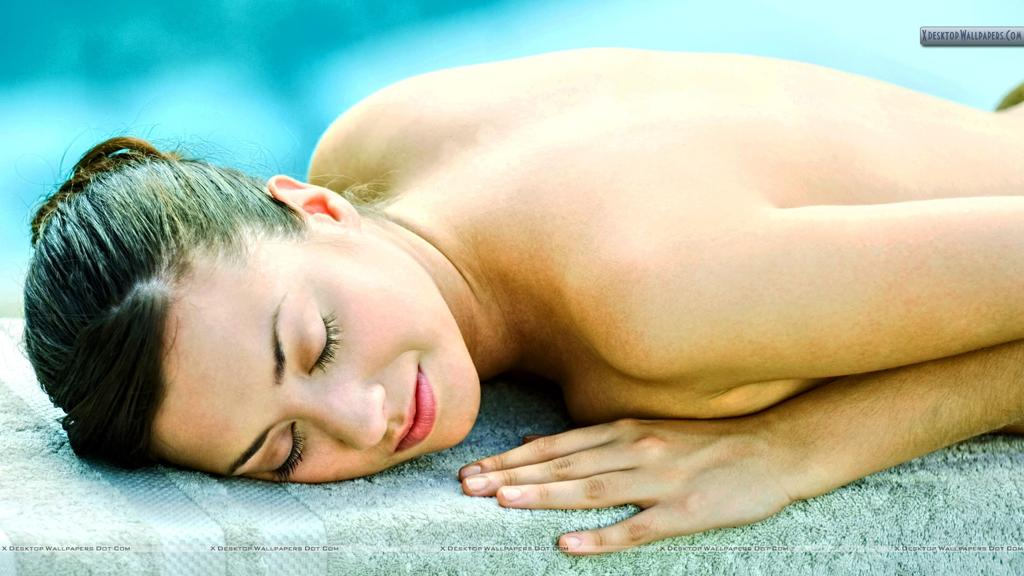face: (162, 260, 480, 478)
